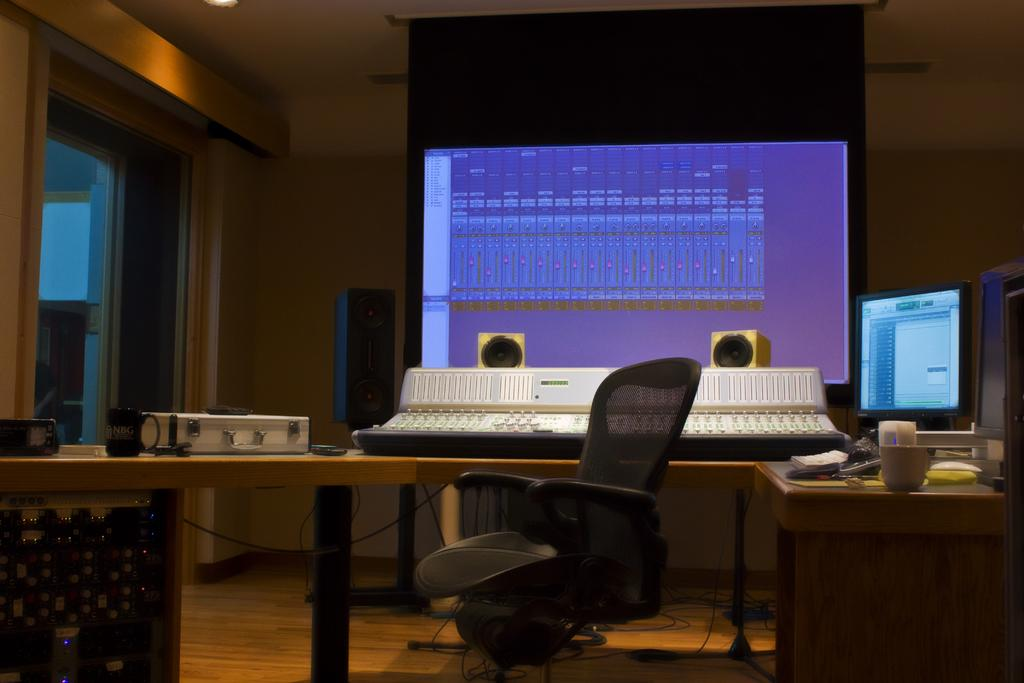Chair: (409, 356, 702, 681)
Computer-monitor: (849, 277, 974, 430)
Luggage-and-bags: (136, 404, 312, 456)
